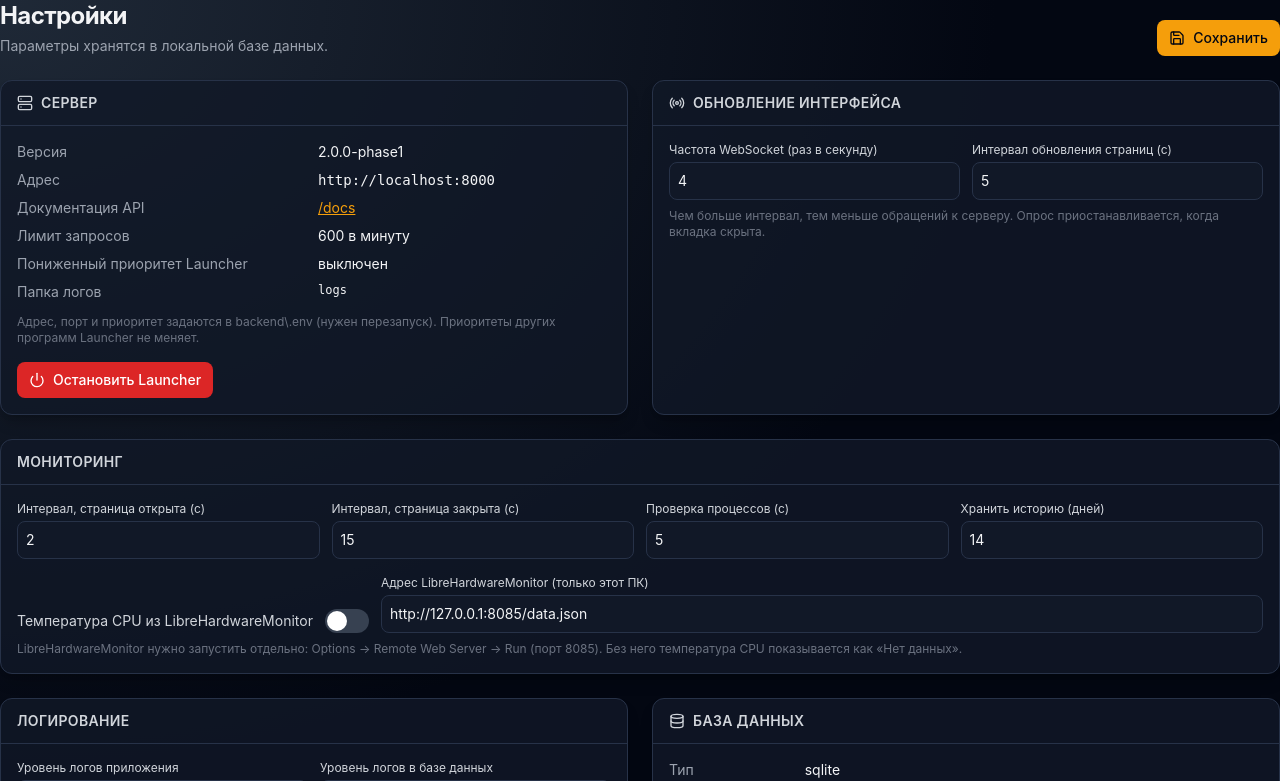
Test: Settings › asks for confirmation and sends the guard header on shutdown
The width and height of the screenshot is (1280, 781).
Click the button with test id "shutdown".
click(115, 380)  # box [17,362,213,398]
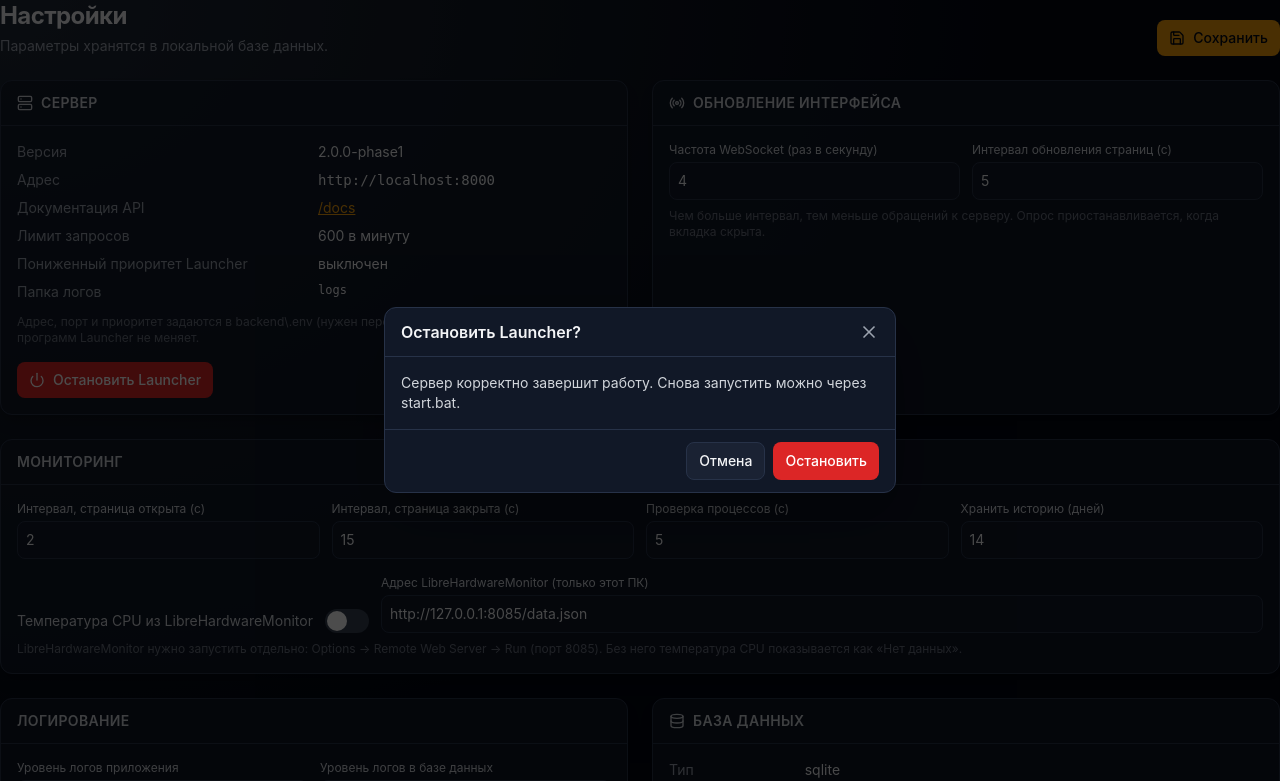
Click the button "Остановить".
click(826, 461)  # box [774,442,879,480]
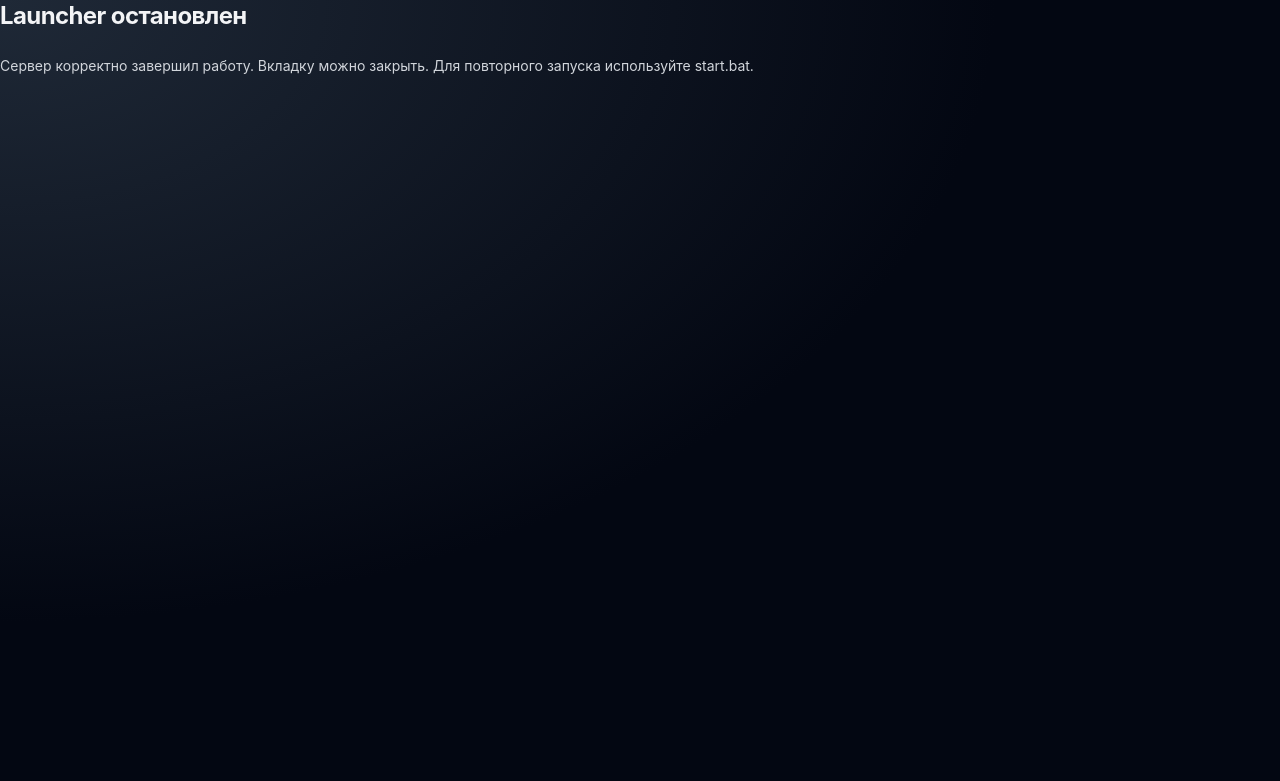
Expected: the text "корректно завершил работу" is shown, [0,57,754,74]
